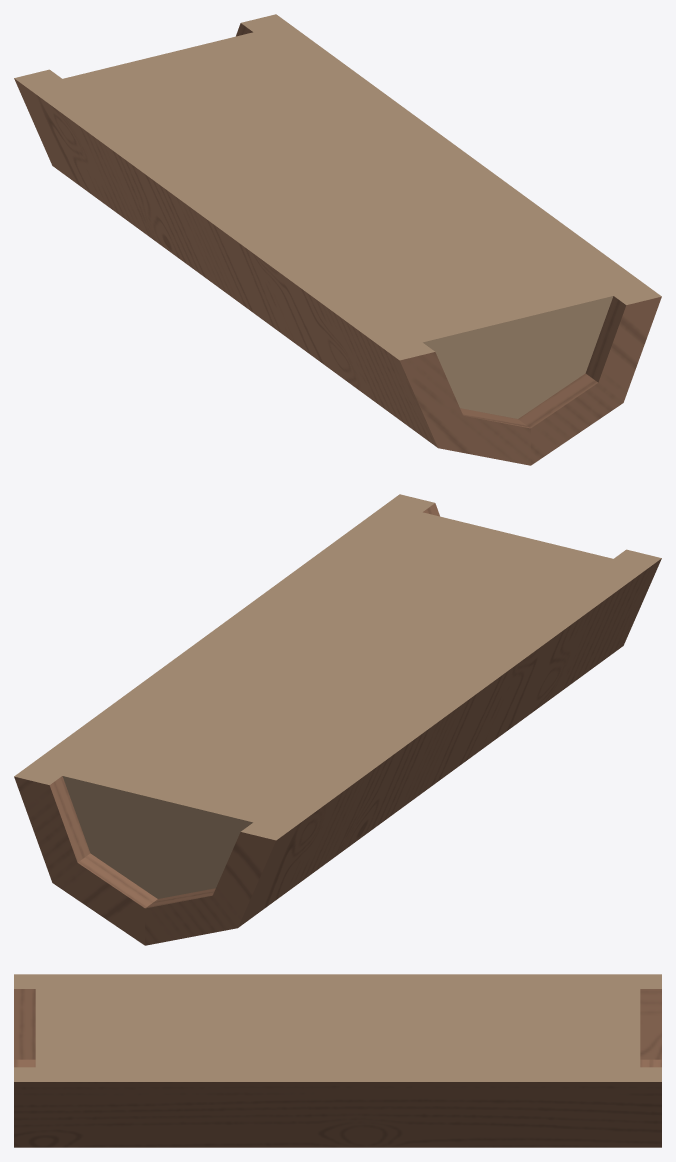
Rendered from Half log.fbx.
3 renders of one model, top to bottom at view 1: azimuth 30°, elevation 25°; view 2: azimuth 150°, elevation 25°; view 3: azimuth 270°, elevation 25°, orthographic. The views are drawn at different scales.
Visible parts, largest first — view 1: Half_log; view 2: Half_log; view 3: Half_log.
Boxes of the visible parts, x1,y1,x2,y2 form: Half_log: (14,14,661,465); Half_log: (14,494,661,945); Half_log: (14,974,661,1147).
Bounding box in the file's own units: 41.03 × 20.52 × 105.
